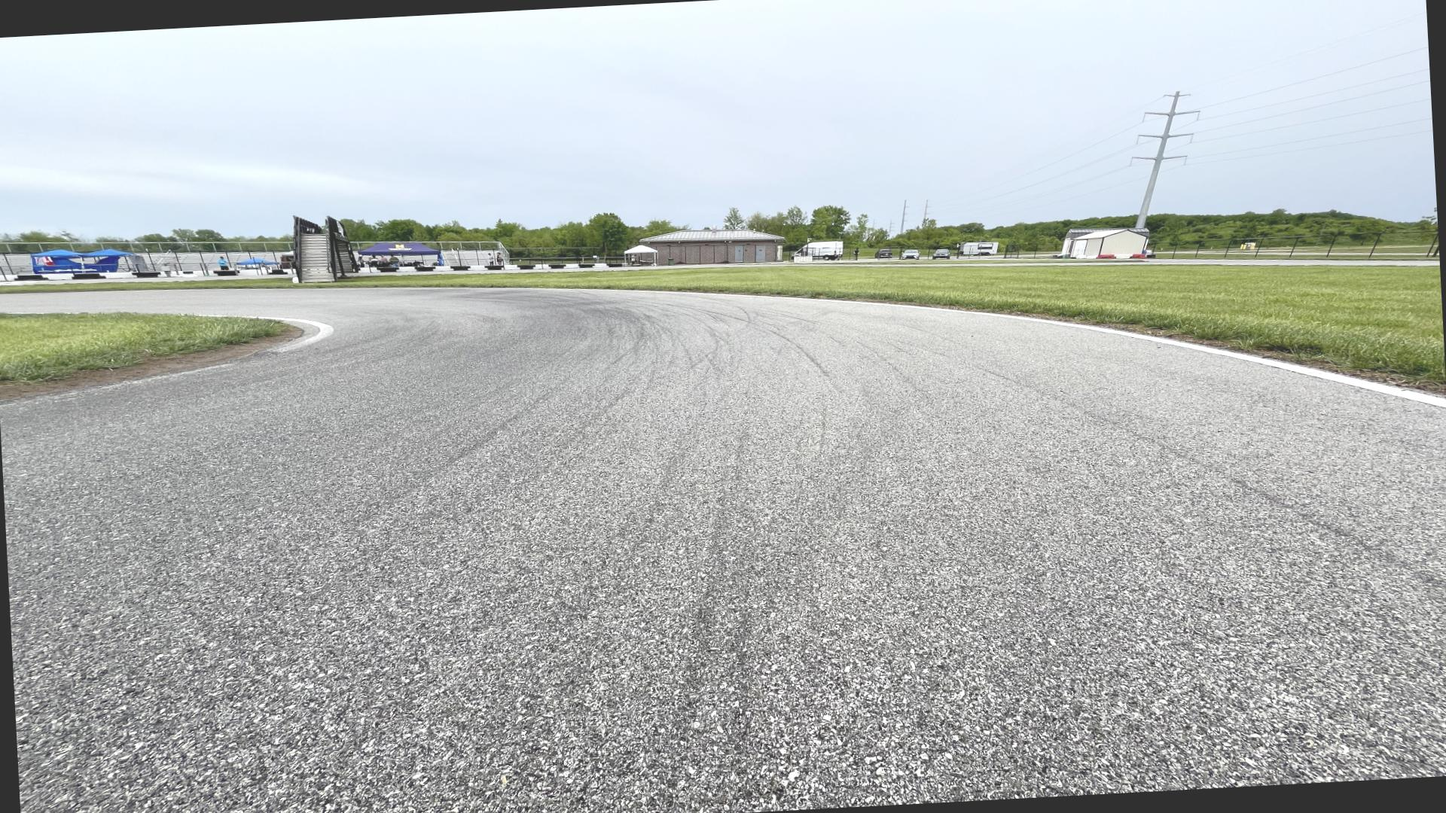white-line: (354, 288, 1445, 408), (0, 315, 333, 411)
